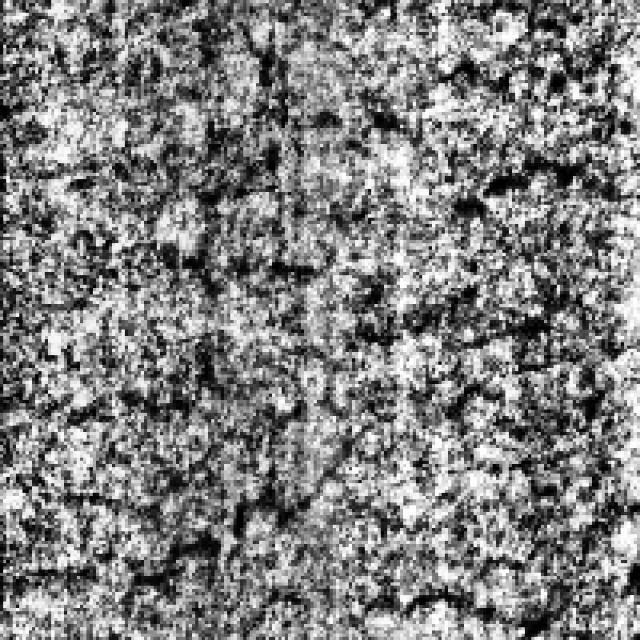Pitted_Surface: (9, 342, 337, 589)
